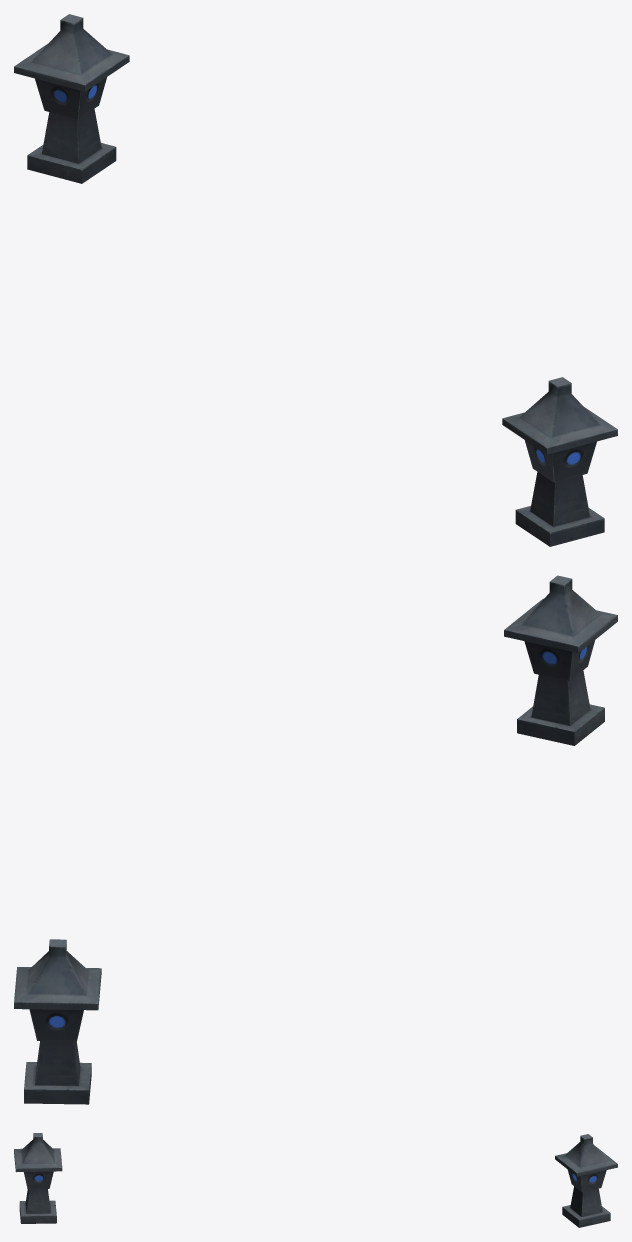
The model's file is Area_05_5.fbx.
3 renders of one model, top to bottom at view 1: azimuth 30°, elevation 25°; view 2: azimuth 150°, elevation 25°; view 3: azimuth 270°, elevation 25°, orthographic. The views are drawn at different scales.
Parts seen in each view (by area): view 1: Area_05_5; view 2: Area_05_5; view 3: Area_05_5.
Boxes of the visible parts, bbox=[...] form: Area_05_5: bbox=[14, 14, 617, 546]; Area_05_5: bbox=[14, 575, 617, 1104]; Area_05_5: bbox=[14, 1133, 617, 1227].
Size of the model in its own units: 225 by 320 by 2157.
